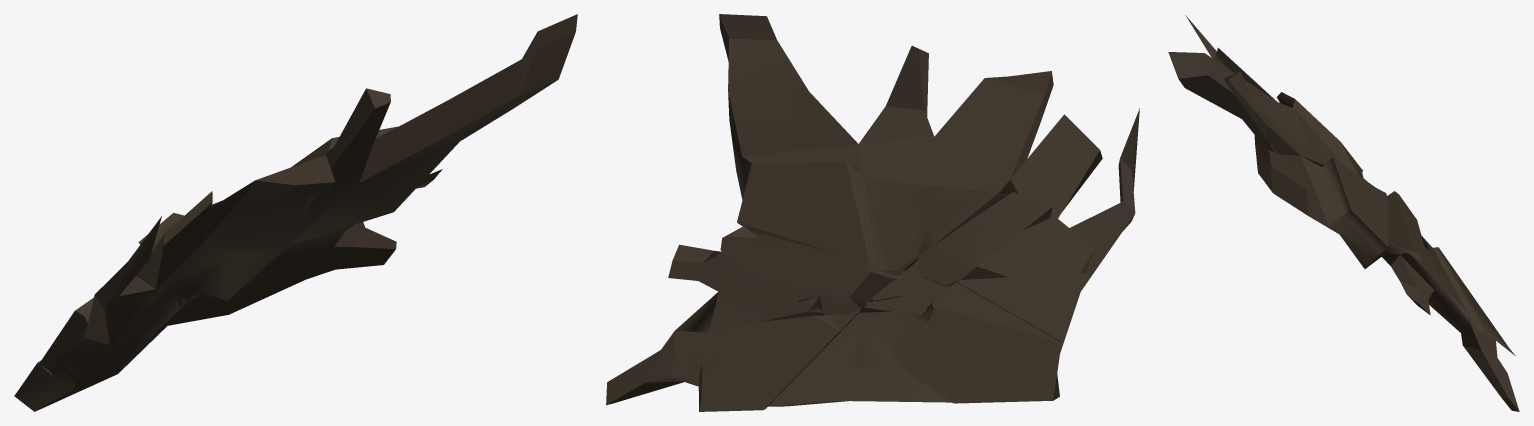
Rendered from scrap sheet SNAPSHOT.fbx.
The picture shows the model from 3 angles, left to right: view 1: azimuth 30°, elevation 25°; view 2: azimuth 150°, elevation 25°; view 3: azimuth 270°, elevation 25°; orthographic projection. The views are drawn at different scales.
Parts seen in each view (by area): view 1: polySurface146; view 2: polySurface146; view 3: polySurface146.
Part boxes in pixels (x1,y1,x2,y2): polySurface146: [14, 14, 577, 411]; polySurface146: [606, 14, 1139, 411]; polySurface146: [1168, 15, 1519, 411].
Bounding box in the file's own units: 5179 × 3589 × 4217.
